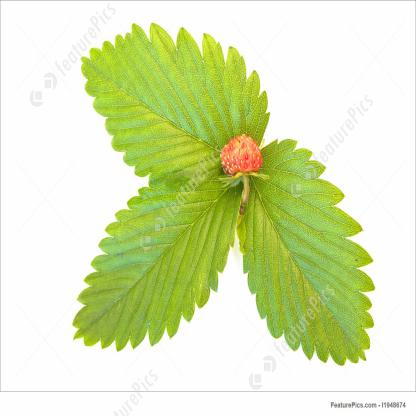strawberry leaf: (228, 133, 377, 372), (69, 163, 245, 353), (81, 21, 276, 191)
